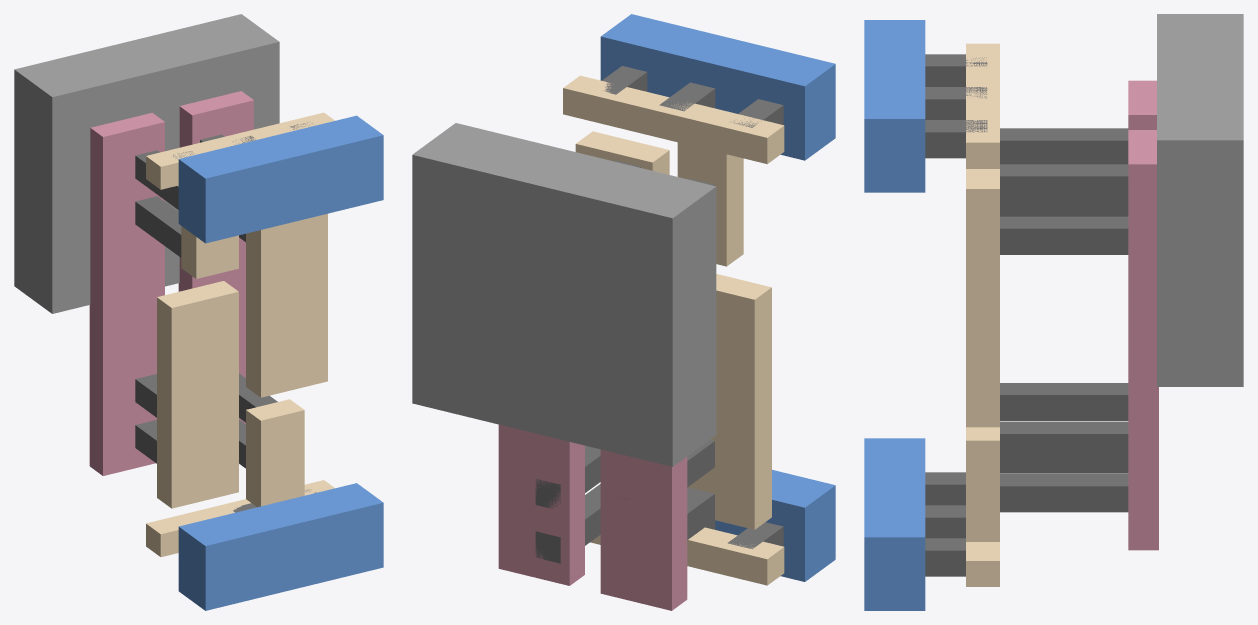
Rendered from sky130_fd_sc_hd__conb_1.gds.gltf.
3 renders of one model, left to right at view 1: azimuth 30°, elevation 25°; view 2: azimuth 150°, elevation 25°; view 3: azimuth 270°, elevation 25°, orthographic. The views are drawn at different scales.
Visible parts, largest first — view 1: sky130_fd_sc_hd__conb_1_li1, sky130_fd_sc_hd__conb_1_met1, sky130_fd_sc_hd__conb_1_nwell, sky130_fd_sc_hd__conb_1_poly, sky130_fd_sc_hd__conb_1_licon; view 2: sky130_fd_sc_hd__conb_1_nwell, sky130_fd_sc_hd__conb_1_li1, sky130_fd_sc_hd__conb_1_poly, sky130_fd_sc_hd__conb_1_met1, sky130_fd_sc_hd__conb_1_licon, sky130_fd_sc_hd__conb_1_mcon; view 3: sky130_fd_sc_hd__conb_1_licon, sky130_fd_sc_hd__conb_1_nwell, sky130_fd_sc_hd__conb_1_met1, sky130_fd_sc_hd__conb_1_li1, sky130_fd_sc_hd__conb_1_poly, sky130_fd_sc_hd__conb_1_mcon.
Part boxes in pixels (<box>): sky130_fd_sc_hd__conb_1_li1: <box>146,112,334,556</box>; sky130_fd_sc_hd__conb_1_met1: <box>178,115,383,610</box>; sky130_fd_sc_hd__conb_1_nwell: <box>14,14,279,313</box>; sky130_fd_sc_hd__conb_1_poly: <box>89,91,253,475</box>; sky130_fd_sc_hd__conb_1_licon: <box>135,134,277,468</box>; sky130_fd_sc_hd__conb_1_nwell: <box>412,123,716,466</box>; sky130_fd_sc_hd__conb_1_li1: <box>563,75,784,585</box>; sky130_fd_sc_hd__conb_1_poly: <box>498,424,687,610</box>; sky130_fd_sc_hd__conb_1_met1: <box>600,14,835,581</box>; sky130_fd_sc_hd__conb_1_licon: <box>535,160,714,563</box>; sky130_fd_sc_hd__conb_1_mcon: <box>602,66,783,549</box>; sky130_fd_sc_hd__conb_1_licon: <box>1000,128,1128,512</box>; sky130_fd_sc_hd__conb_1_nwell: <box>1157,14,1243,386</box>; sky130_fd_sc_hd__conb_1_met1: <box>864,20,925,610</box>; sky130_fd_sc_hd__conb_1_li1: <box>966,43,999,586</box>; sky130_fd_sc_hd__conb_1_poly: <box>1128,80,1158,550</box>; sky130_fd_sc_hd__conb_1_mcon: <box>925,54,987,576</box>.
Bounding box in the file's own units: 1.76 × 3.2 × 2.24.
